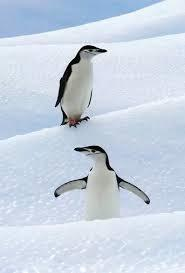chinstrap: (51, 137, 144, 223), (41, 30, 114, 135)
